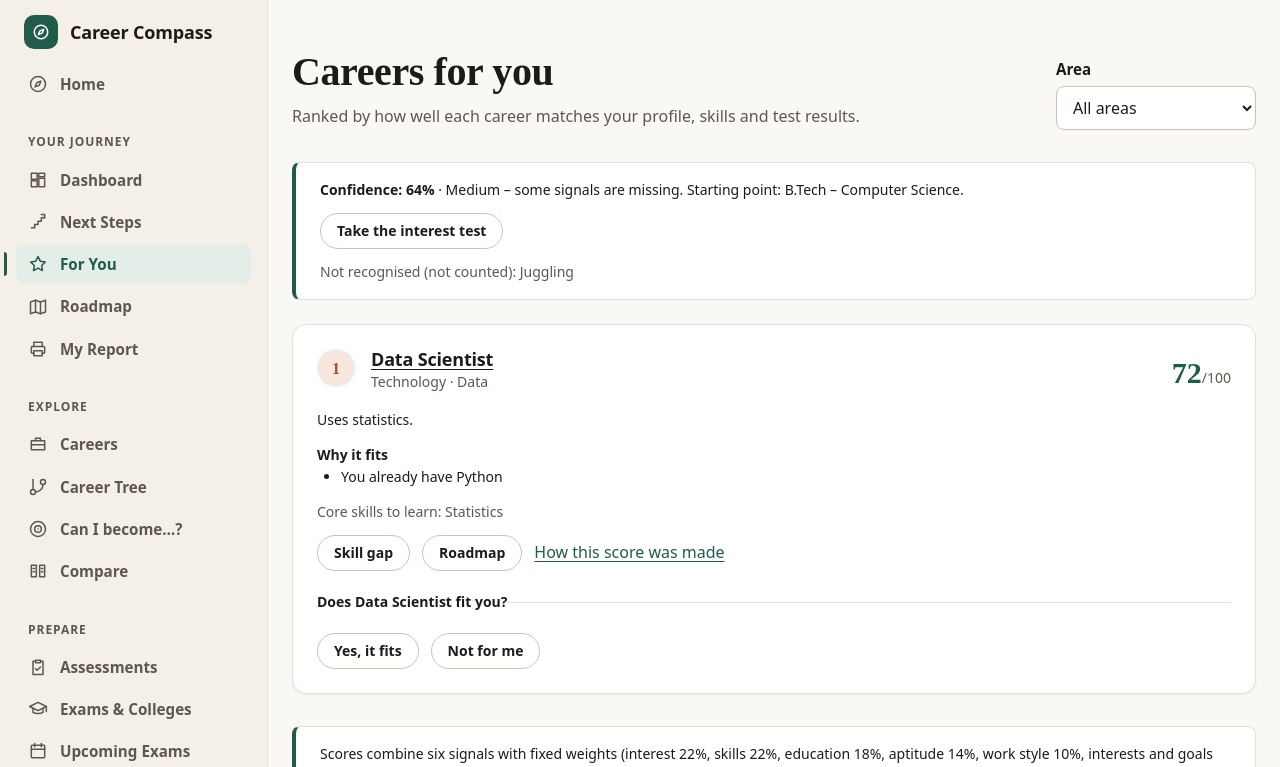
Test: Recommendations page › shows ranked careers with reasons, confidence and score details
This screenshot has width=1280, height=767.
Expected: the heading "Data Scientist" is shown, [371, 347, 493, 371]
Expected: the element named "Match 72 out of 100" is shown, [1172, 349, 1231, 397]
Click the button "How this score was made".
click(629, 553)  # box [534, 535, 725, 571]
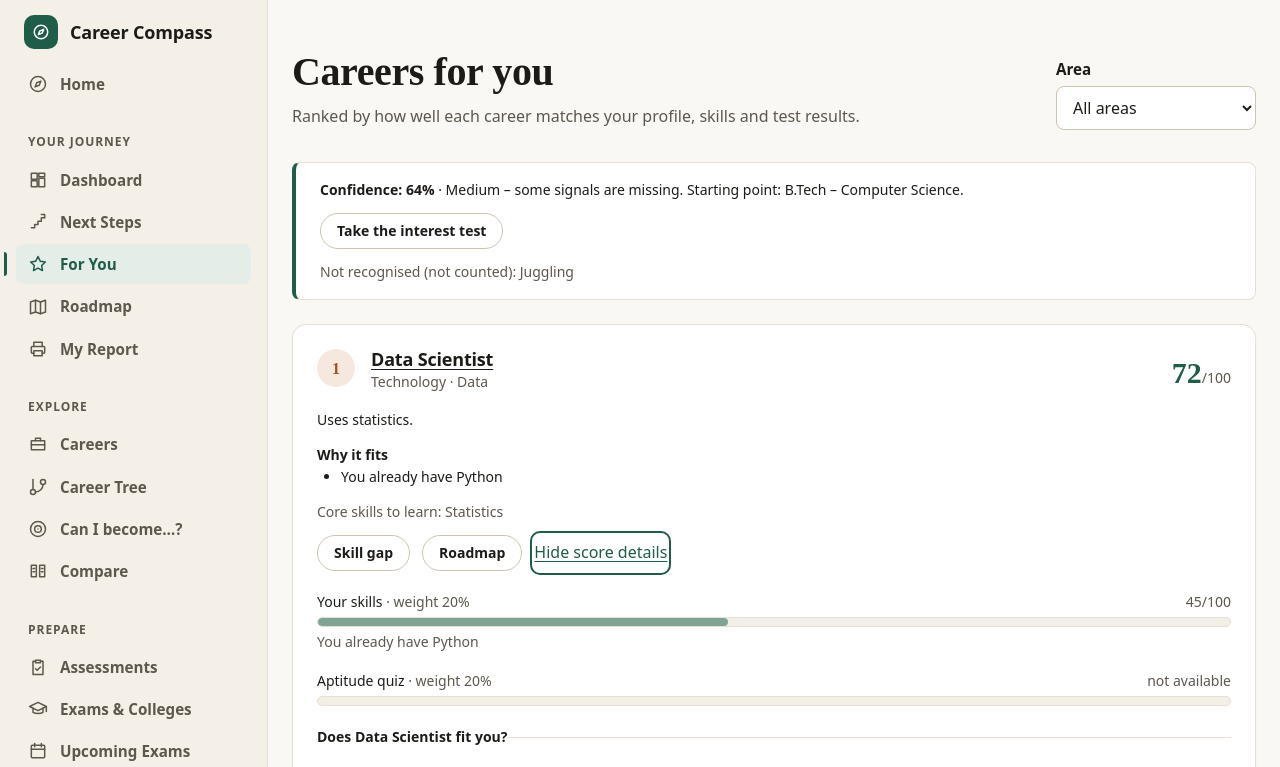
Expected: the picture named "Your skills for Data Scientist: 45 out of 100" is shown, [317, 617, 1231, 627]
Expected: the text "not available" is shown, [1147, 670, 1231, 692]
